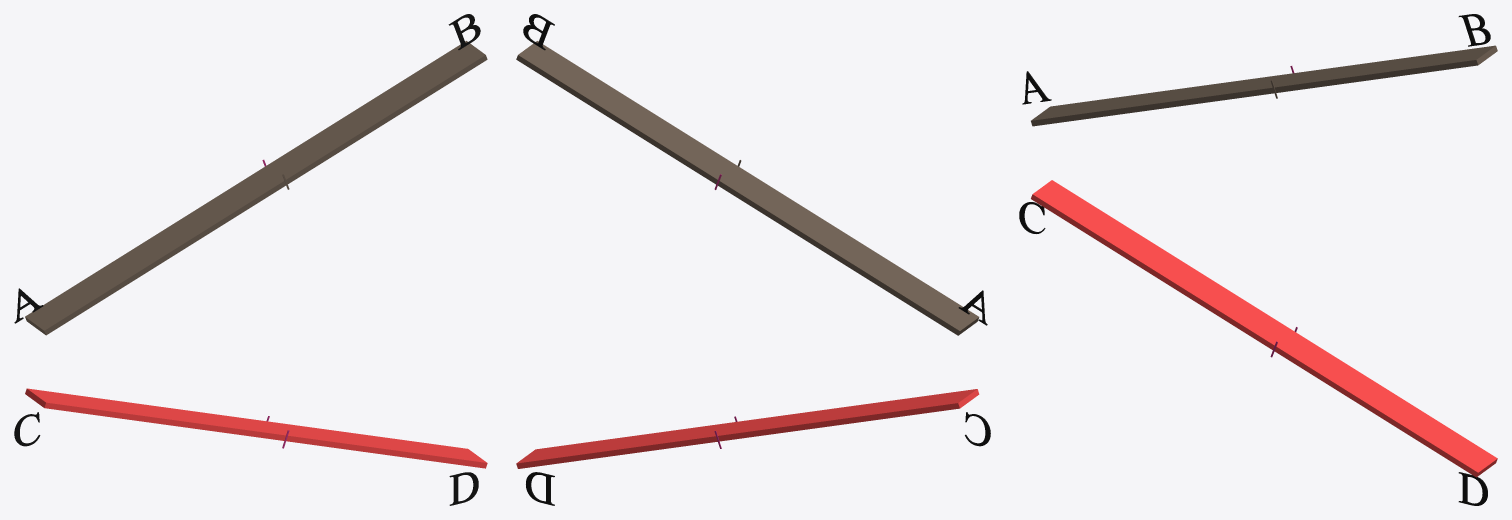
Rendered from Nashat3.glb.
The picture shows the model from 3 angles, left to right: view 1: azimuth 30°, elevation 25°; view 2: azimuth 150°, elevation 25°; view 3: azimuth 330°, elevation 25°; orthographic projection.
Parts seen in each view (by area): view 1: Box001, Box004; view 2: Box001, Box004; view 3: Box004, Box001.
Boxes of the visible parts, x1=… form: Box001: x1=25, y1=41, x2=487, y2=335; Box004: x1=25, y1=388, x2=487, y2=468; Box001: x1=516, y1=41, x2=979, y2=335; Box004: x1=516, y1=389, x2=979, y2=468; Box004: x1=1031, y1=180, x2=1497, y2=477; Box001: x1=1031, y1=45, x2=1497, y2=126.
Size of the model in its own units: 0.694 by 0.6927 by 0.0517.
